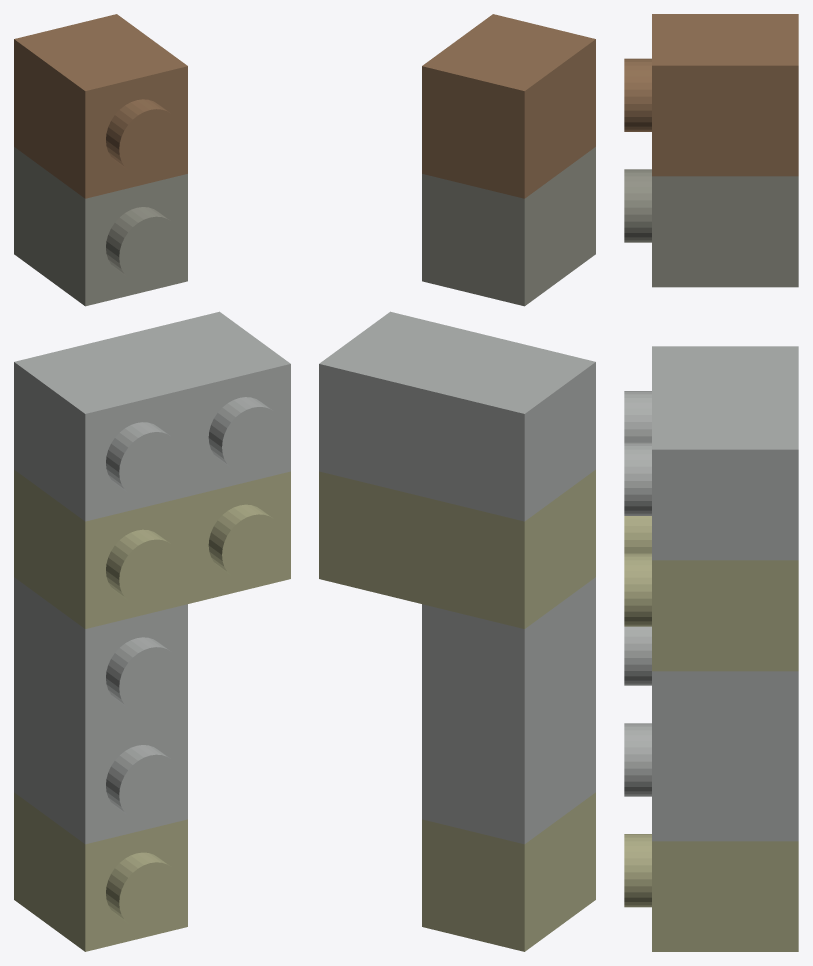
The model's file is current.glb.
3 views of the same model, side by side, from view 1: azimuth 30°, elevation 25°; view 2: azimuth 150°, elevation 25°; view 3: azimuth 270°, elevation 25° (orthographic). The views are drawn at different scales.
Parts seen in each view (by area): view 1: world; view 2: world; view 3: world.
Boxes of the visible parts, x1=… form: world: x1=14, y1=14, x2=290, y2=951; world: x1=319, y1=14, x2=595, y2=951; world: x1=624, y1=14, x2=798, y2=951.
Size of the model in its own units: 16 by 64 by 11.4.
